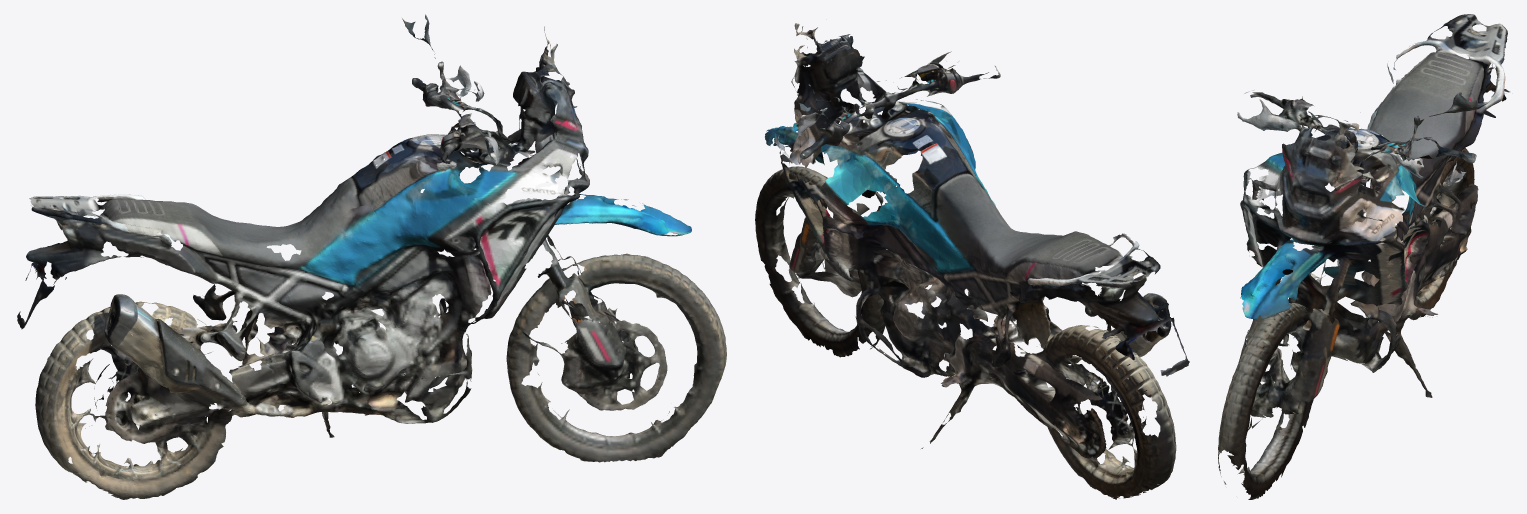
The model's file is cfmoto-mt450.glb.
3 renders of one model, left to right at view 1: azimuth 30°, elevation 25°; view 2: azimuth 150°, elevation 25°; view 3: azimuth 270°, elevation 25°, orthographic. The views are drawn at different scales.
Parts seen in each view (by area): view 1: body; view 2: body; view 3: body.
Boxes of the visible parts, x1,y1,x2,y2 form: body: [17, 14, 726, 499]; body: [755, 23, 1189, 499]; body: [1218, 14, 1509, 499].
Bounding box in the file's own units: 2.23 × 1.43 × 1.05.
Materials: 1 (1 with a texture image).
